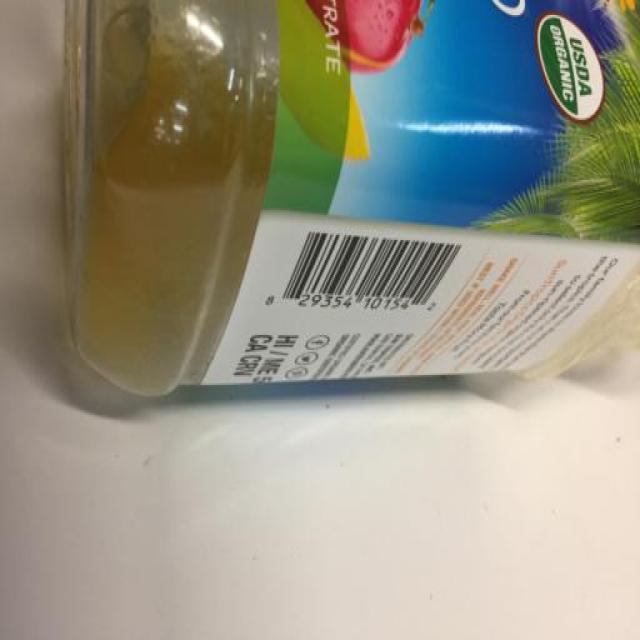Plastic: (64, 0, 640, 405)
